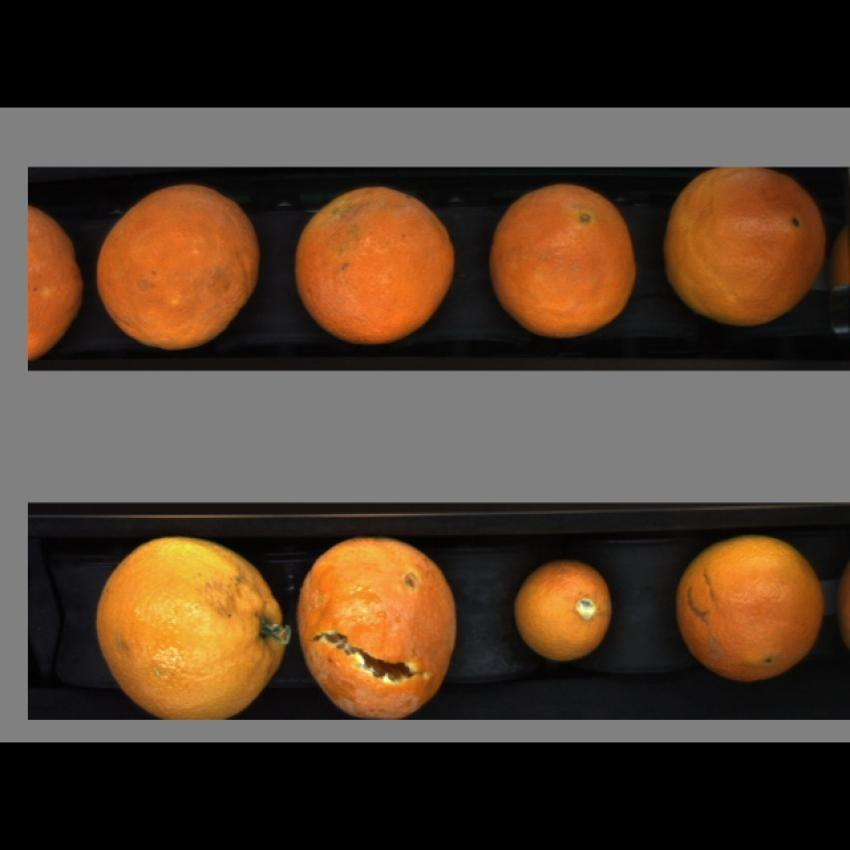Mal estado: (84, 532, 294, 718), (291, 535, 466, 716), (95, 185, 266, 354), (291, 181, 458, 351), (659, 169, 831, 330), (483, 184, 643, 344), (670, 526, 830, 686), (509, 560, 617, 660), (32, 206, 84, 368)
